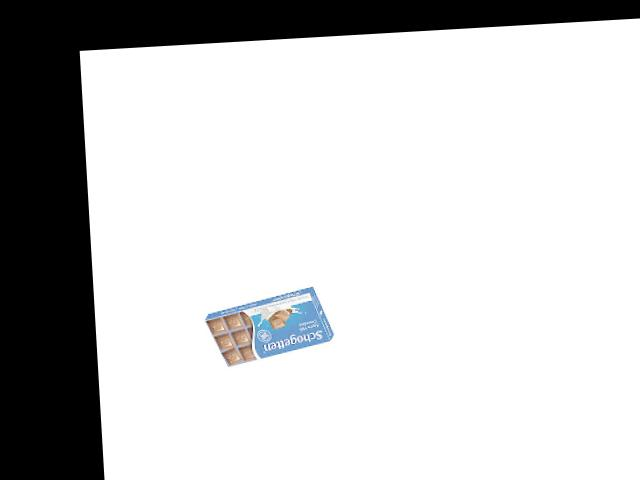chocolate: (202, 295, 337, 368)
